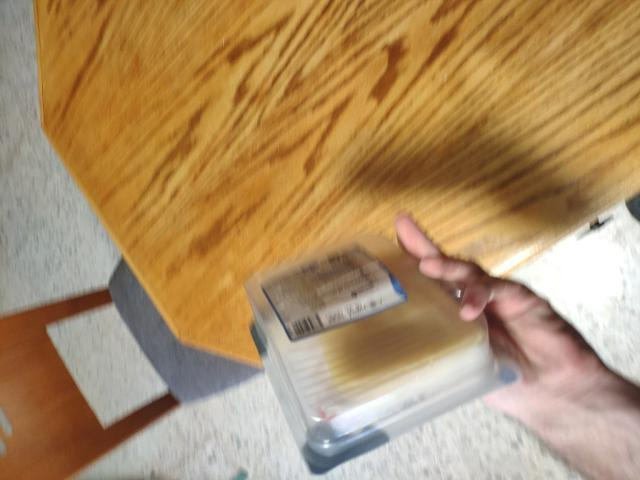cheese: (245, 259, 495, 436)
